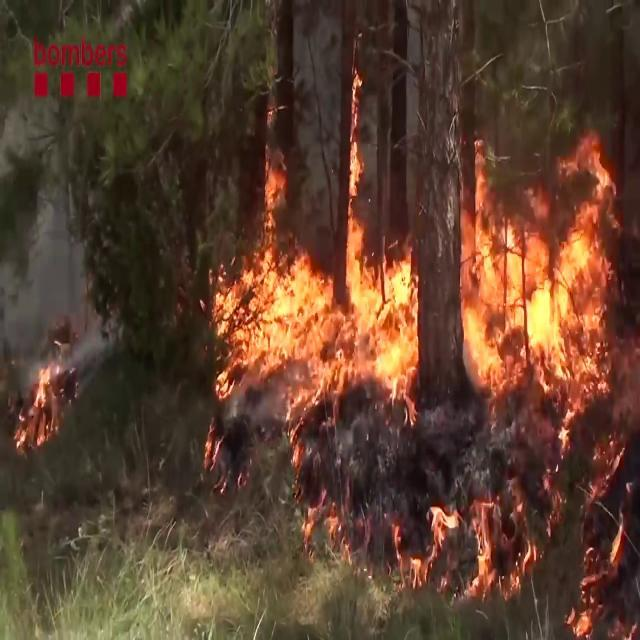Fire: (208, 75, 422, 418), (452, 133, 634, 422), (16, 345, 70, 453)
Smoke: (0, 74, 94, 382)
